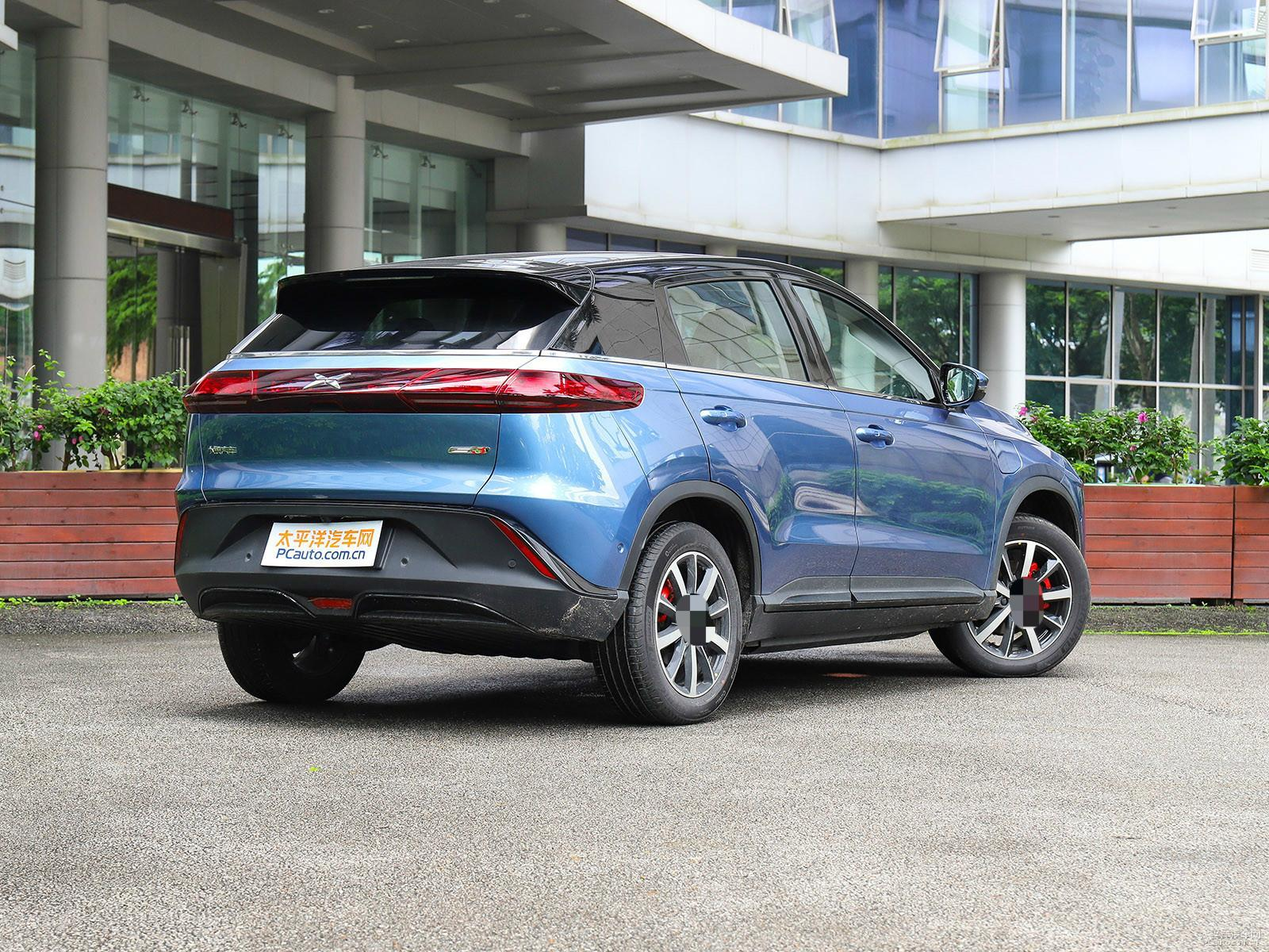XPeng Motors: (302, 371, 352, 391)
